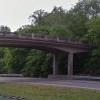Bridge: (6, 19, 84, 67)
